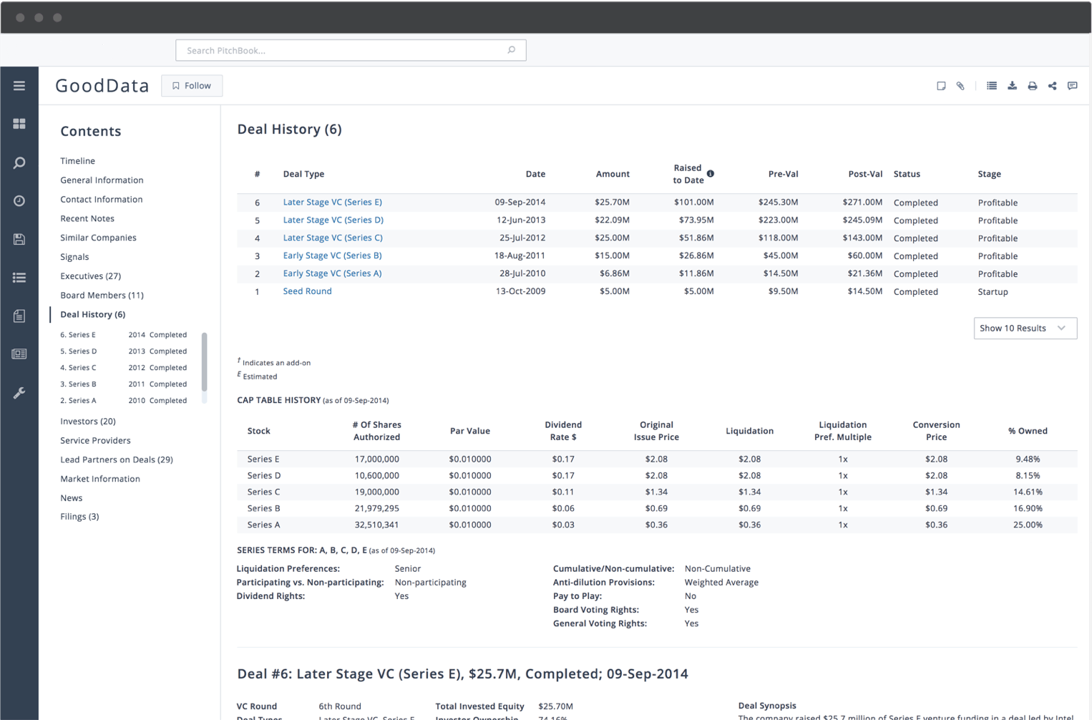block: (39, 104, 220, 720), (38, 66, 1092, 104), (1, 66, 39, 720), (974, 315, 1079, 338), (160, 73, 224, 96)
button: (8, 8, 73, 26)
form: (175, 38, 526, 60)
icon: (4, 298, 38, 332), (5, 374, 38, 408), (5, 336, 37, 368), (5, 261, 36, 294), (198, 327, 210, 406), (6, 223, 35, 255), (6, 185, 34, 216), (6, 148, 33, 178), (7, 108, 31, 137), (1023, 73, 1045, 99), (951, 75, 975, 98), (1066, 71, 1085, 99), (1046, 72, 1066, 98), (9, 73, 30, 97), (982, 74, 1003, 98), (1003, 74, 1023, 98), (932, 74, 953, 96), (502, 40, 522, 59), (167, 76, 185, 95), (1053, 318, 1071, 336)
table: (236, 155, 1076, 307), (230, 412, 1078, 539)
